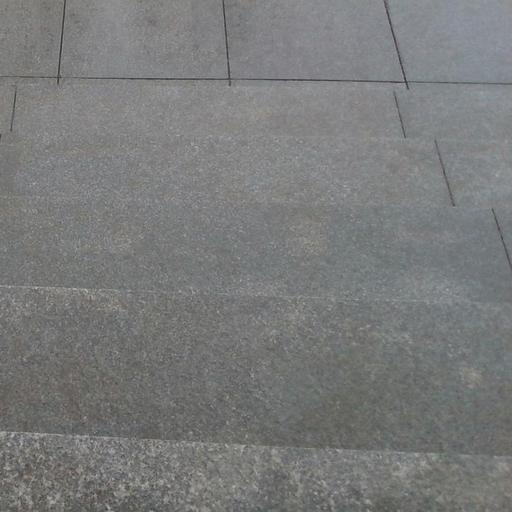stairs: (0, 80, 511, 511), (0, 433, 511, 511)
